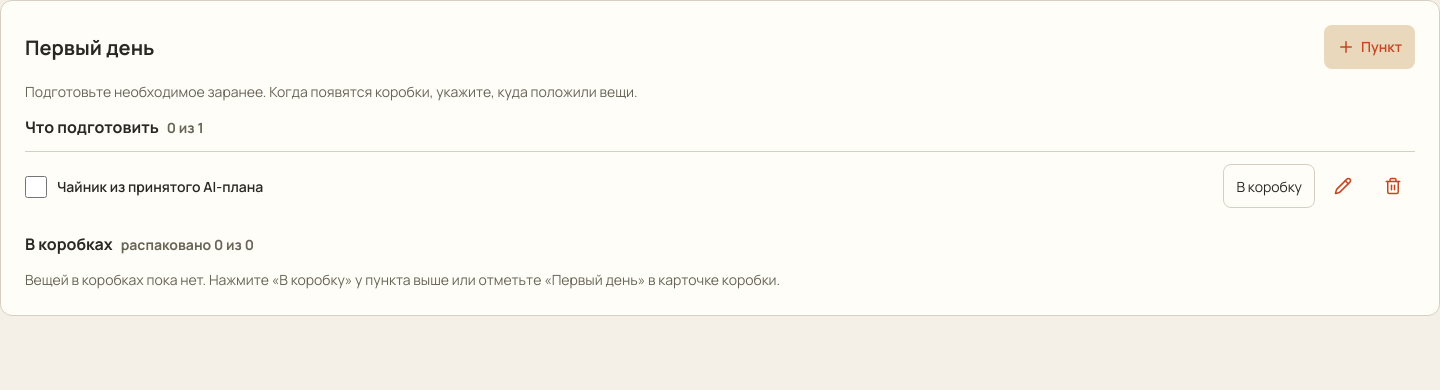
Test: единый список первого дня › возвращает отметку к серверному состоянию после ошибки сохранения
Click the checkbox labelled "Чайник из принятого AI-плана".
click(36, 187)  # box [25,176,47,198]
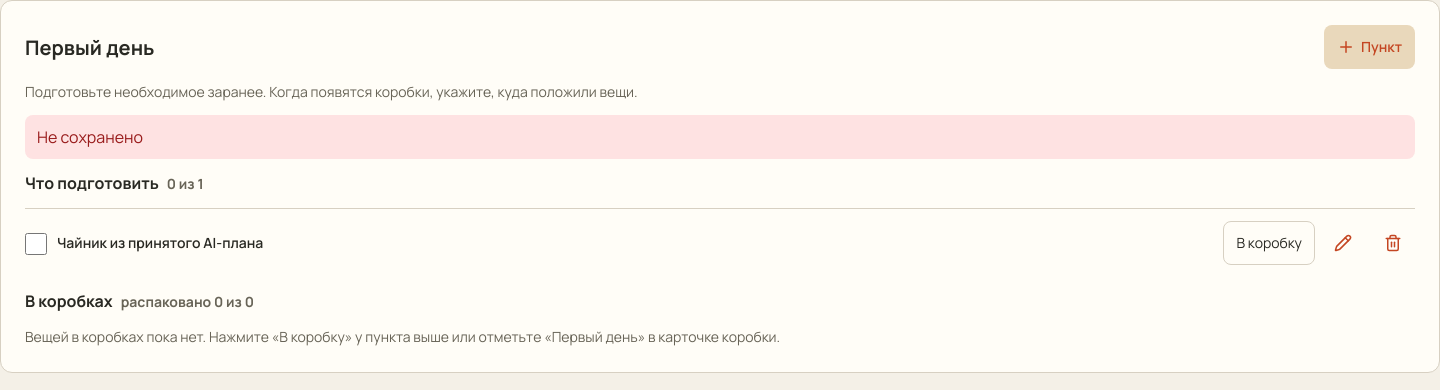
Check: the checkbox labelled "Чайник из принятого AI-плана" is not checked, box [25,233,47,255]
Check: the message "Не сохранено" is shown, box [25,115,1415,160]
